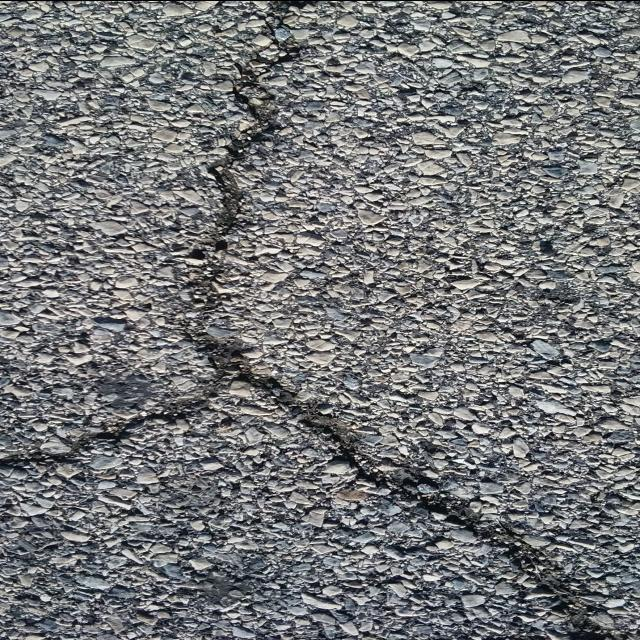Crack: (0, 0, 612, 639)
